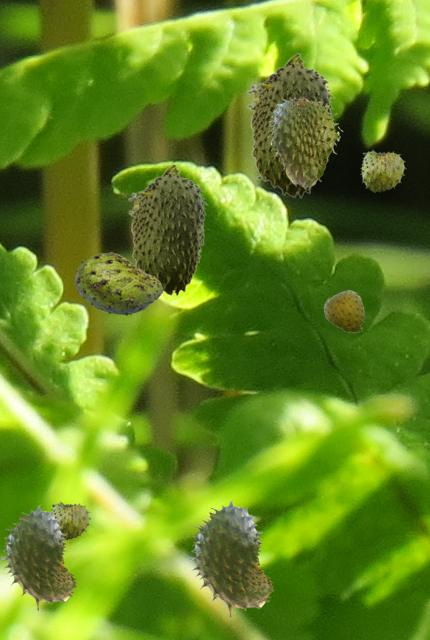guyabano: (247, 52, 334, 197), (128, 163, 207, 295), (189, 500, 273, 617), (1, 505, 76, 610), (267, 97, 342, 189), (74, 252, 162, 314), (360, 149, 405, 191), (323, 290, 364, 332), (50, 501, 90, 539)
